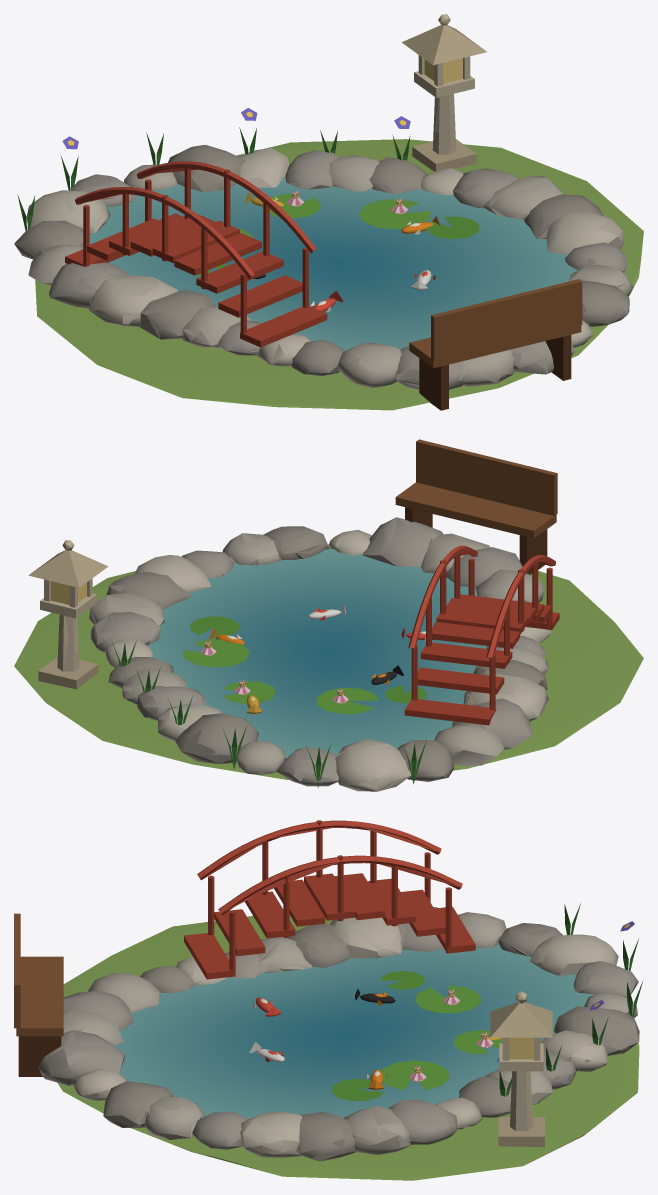
Rendered from koi_pond.glb.
3 views of the same model, one above another, from view 1: azimuth 30°, elevation 25°; view 2: azimuth 150°, elevation 25°; view 3: azimuth 270°, elevation 25° (orthographic). The views are drawn at different scales.
Parts seen in each view (by area): view 1: decor-koi_pond, decor-koi_pond-far; view 2: decor-koi_pond, decor-koi_pond-far; view 3: decor-koi_pond, decor-koi_pond-far.
Boxes of the visible parts, x1,y1,x2,y2 form: decor-koi_pond: (14,14,643,410); decor-koi_pond-far: (26,19,629,410); decor-koi_pond: (14,439,643,791); decor-koi_pond-far: (31,482,559,790); decor-koi_pond: (14,820,643,1180); decor-koi_pond-far: (14,826,639,1161).
Size of the model in its own units: 5.64 by 1.48 by 5.59.
